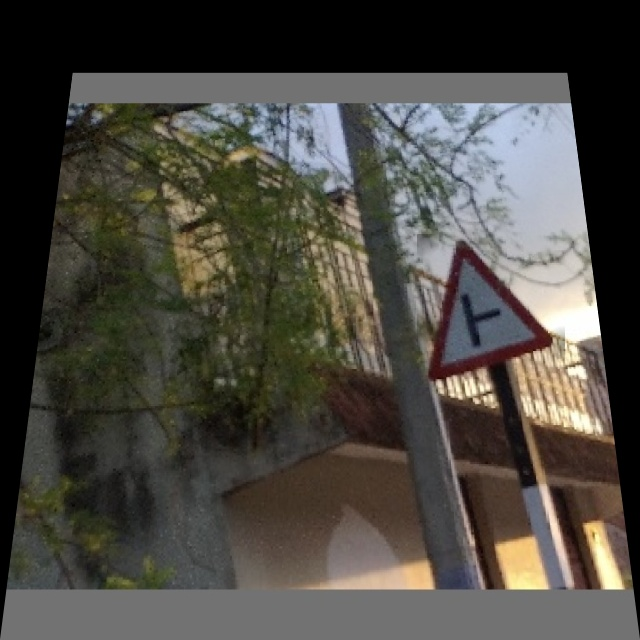Side_Road_Right: (417, 234, 565, 383)
